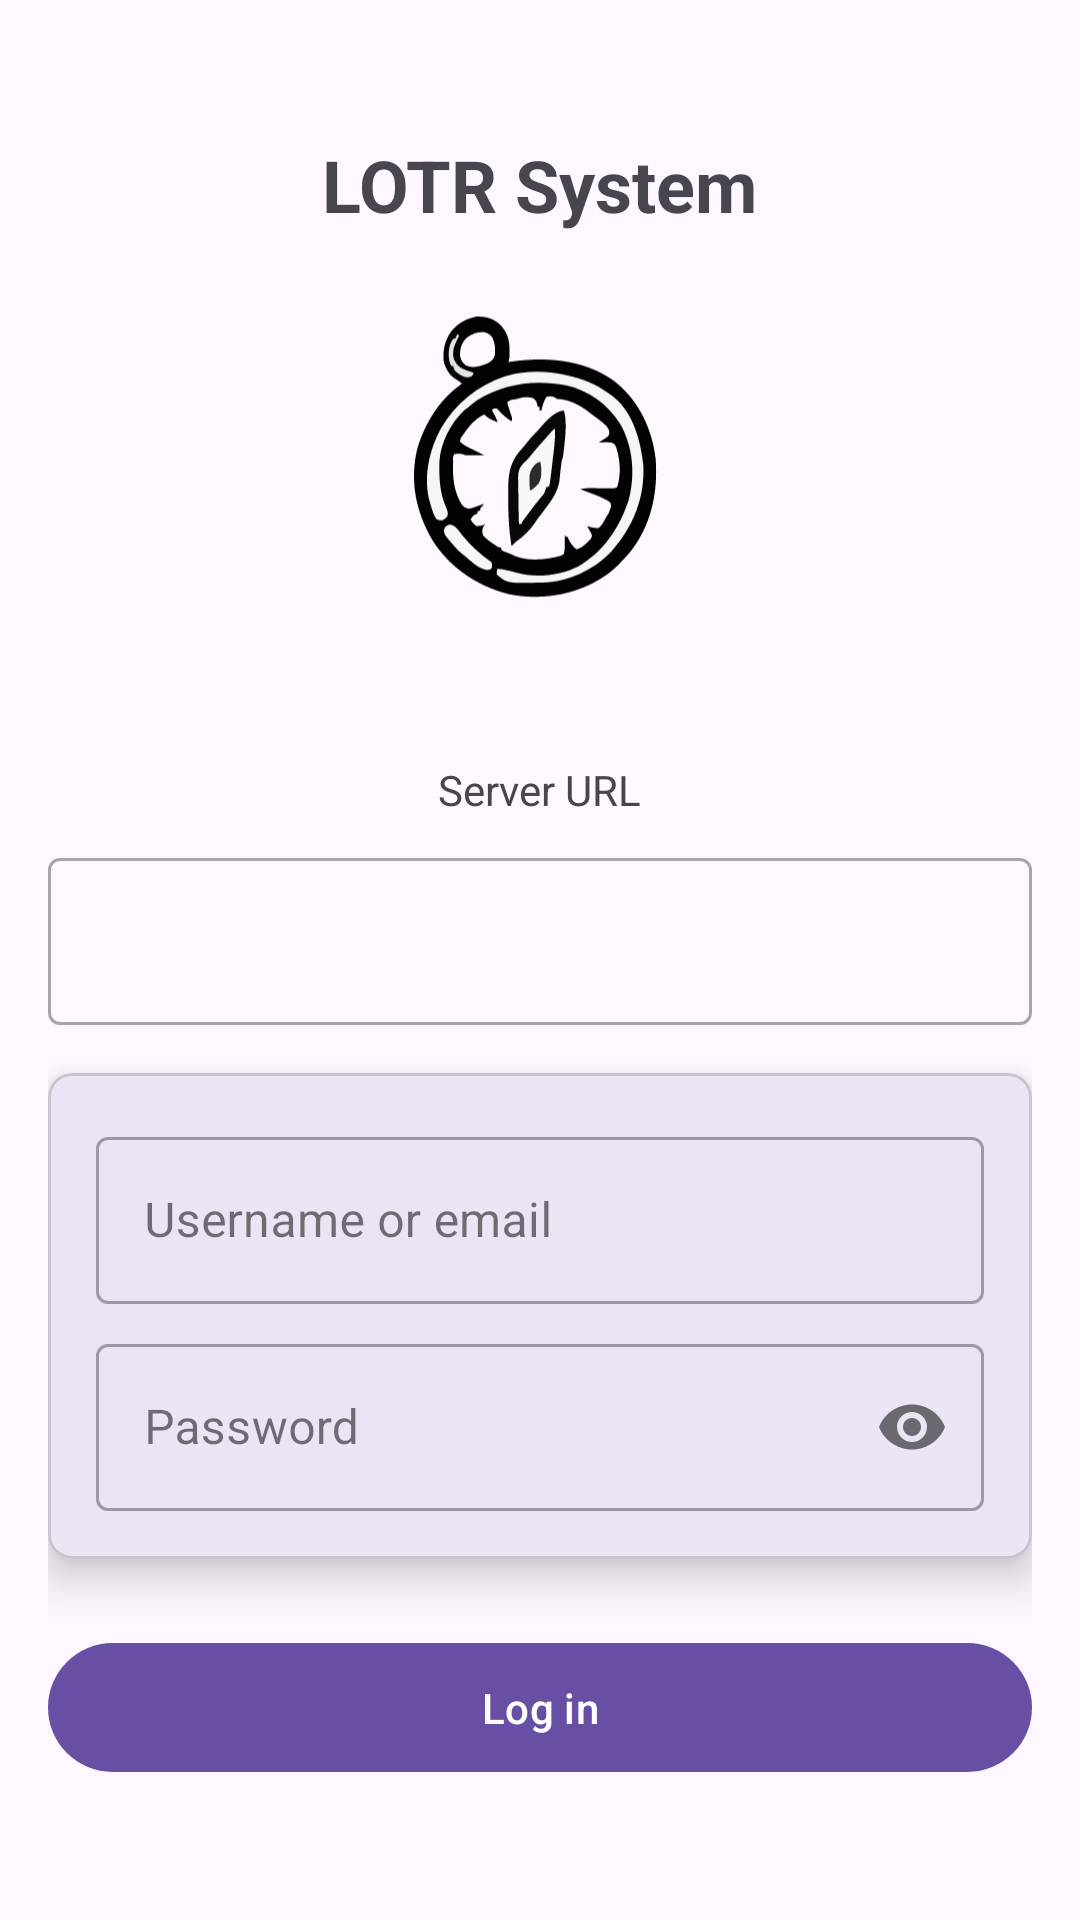

Named icons in this screenshot (1080px×1920px) and their centers, point (x, y):
compass: point (535, 457)
